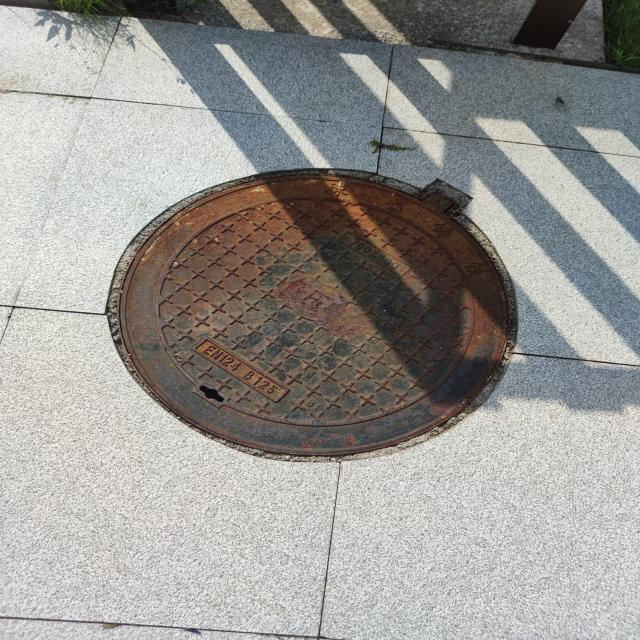Good: (97, 160, 522, 470)
